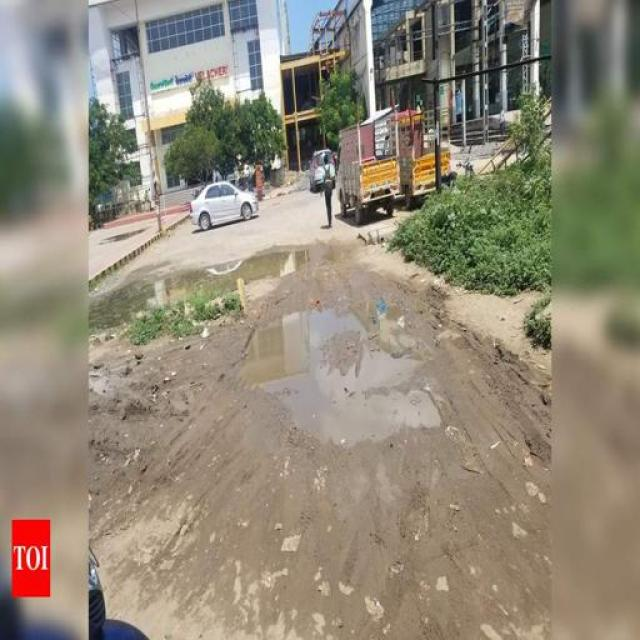puddle: (248, 315, 438, 464), (102, 250, 310, 310)
